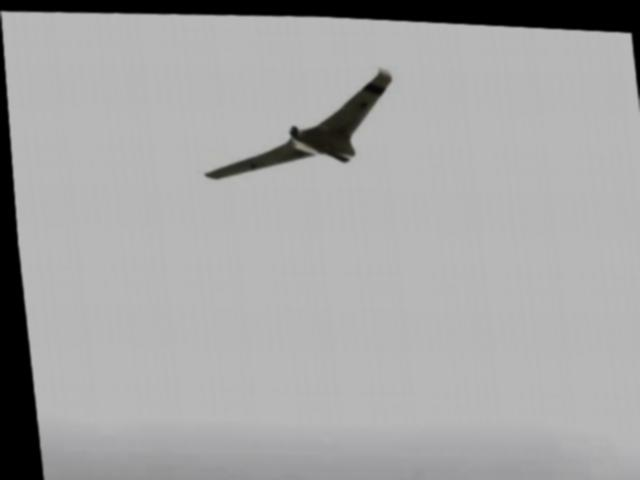iha: (173, 24, 405, 191)
